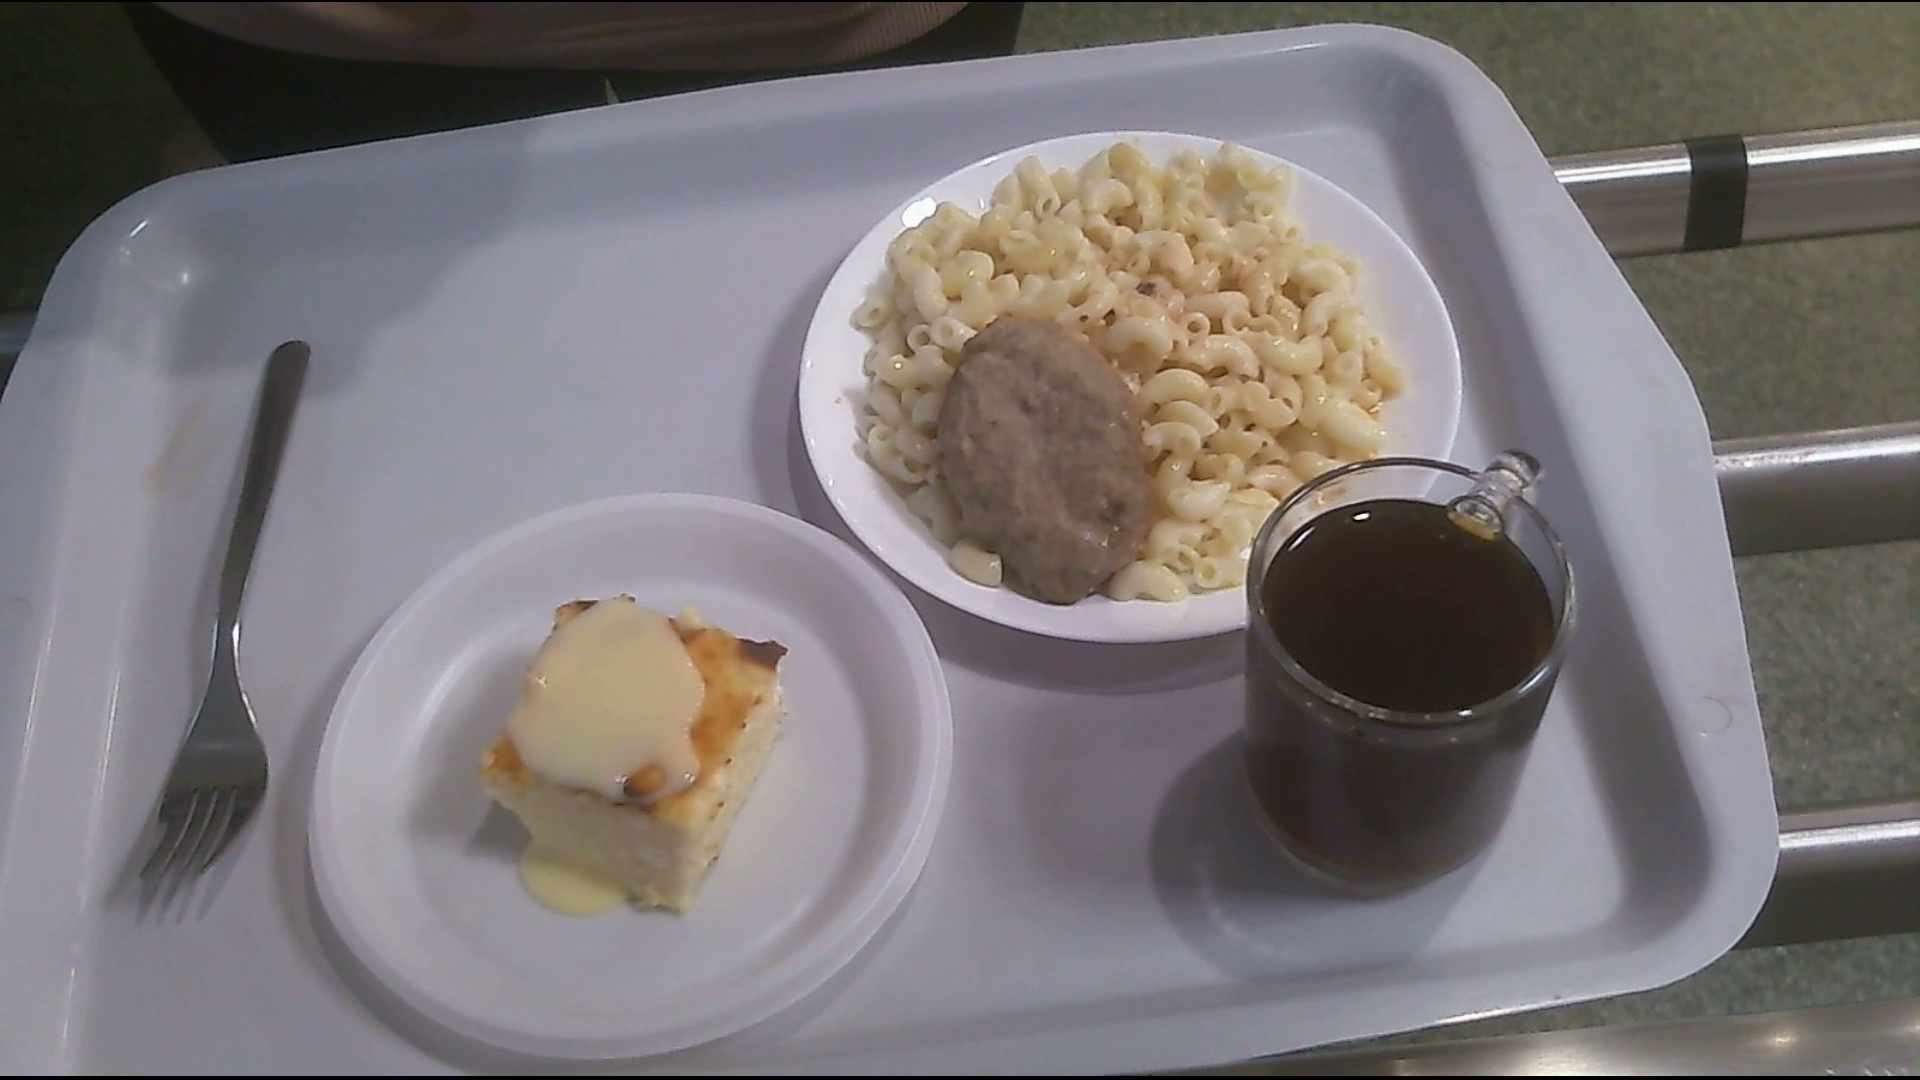cutlery: (150, 324, 318, 899)
drink: (1249, 454, 1557, 894)
plate: (313, 498, 957, 1054), (802, 129, 1458, 649)
